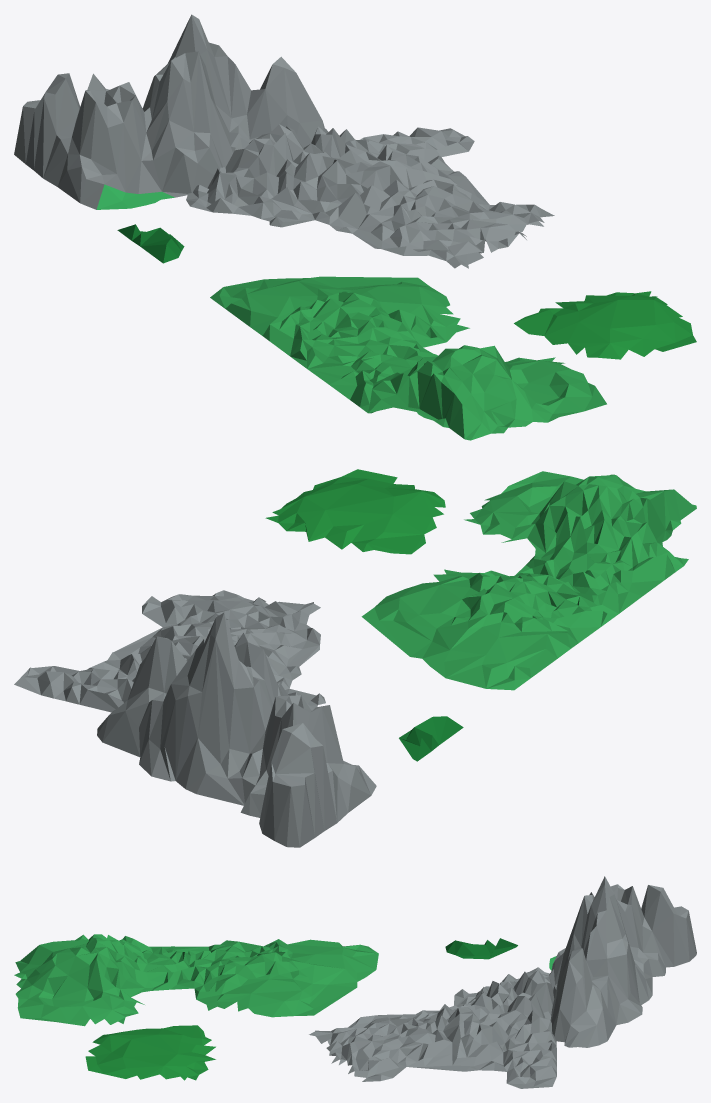
File: Terrain_A.fbx
3 renders of one model, top to bottom at view 1: azimuth 30°, elevation 25°; view 2: azimuth 150°, elevation 25°; view 3: azimuth 270°, elevation 25°, orthographic. The views are drawn at different scales.
Parts seen in each view (by area): view 1: Terrain_A; view 2: Terrain_A; view 3: Terrain_A.
Boxes of the visible parts, x1,y1,x2,y2 form: Terrain_A: [14, 14, 696, 440]; Terrain_A: [14, 469, 696, 847]; Terrain_A: [14, 876, 696, 1088].
Bounding box in the file's own units: 19810 × 7891 × 39761.
